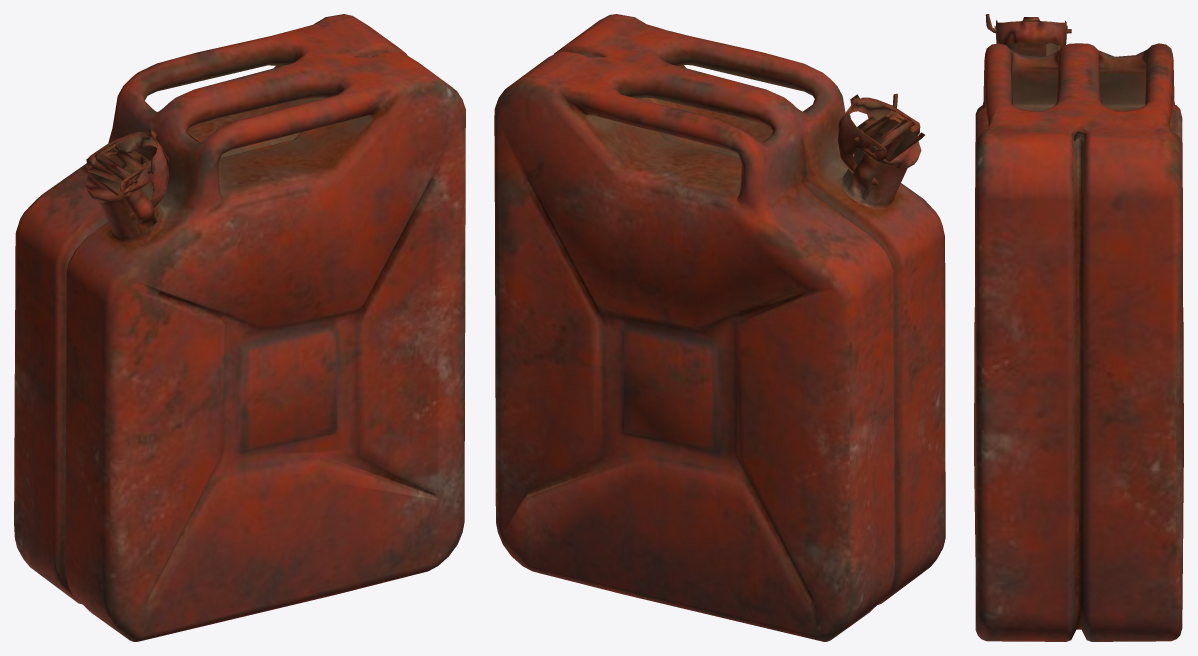
The model's file is metal_jerrycan.glb.
3 renders of one model, left to right at view 1: azimuth 30°, elevation 25°; view 2: azimuth 150°, elevation 25°; view 3: azimuth 270°, elevation 25°, orthographic. The views are drawn at different scales.
Parts seen in each view (by area): view 1: metal_jerrycan; view 2: metal_jerrycan; view 3: metal_jerrycan.
Part boxes in pixels (x1,y1,x2,y2): metal_jerrycan: [14, 14, 465, 641]; metal_jerrycan: [494, 14, 945, 641]; metal_jerrycan: [974, 14, 1183, 641].
Size of the model in its own units: 0.35 by 0.4548 by 0.1717.
Materials: 1 (1 with a texture image).
